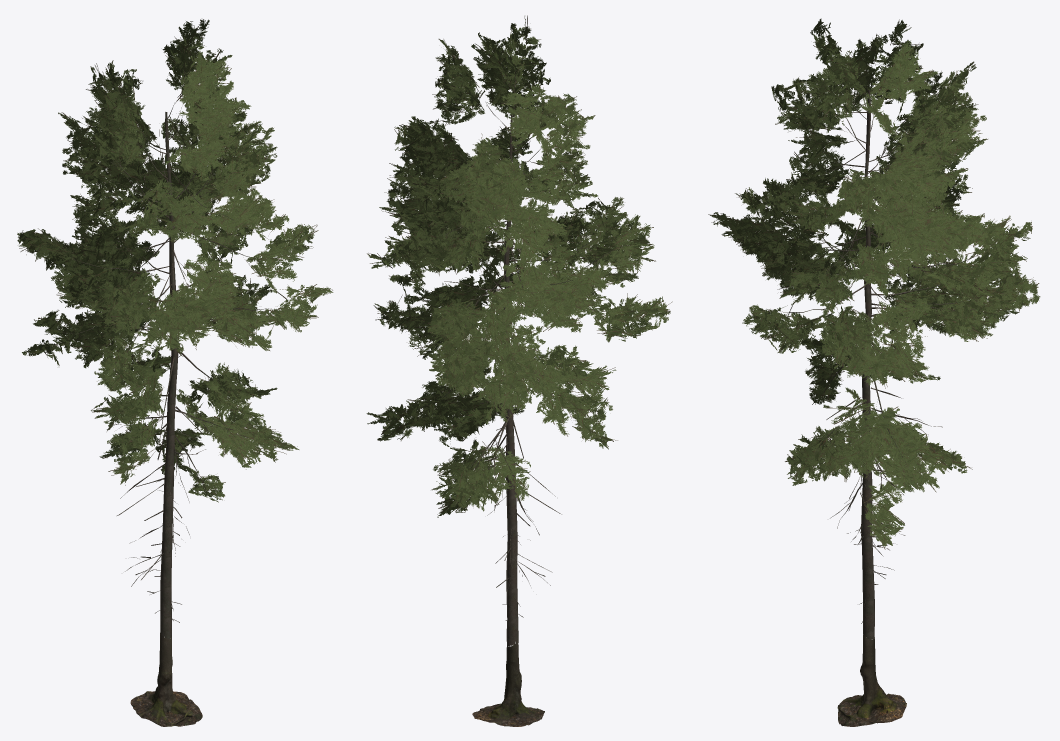
3 renders of one model, left to right at view 1: azimuth 30°, elevation 25°; view 2: azimuth 150°, elevation 25°; view 3: azimuth 270°, elevation 25°, orthographic. The views are drawn at different scales.
Visible parts, largest first — view 1: fir_tree_01__b_lod0; view 2: fir_tree_01__b_lod0; view 3: fir_tree_01__b_lod0.
Part boxes in pixels (x1,y1,x2,y2): fir_tree_01__b_lod0: (17,19,333,726); fir_tree_01__b_lod0: (366,15,672,726); fir_tree_01__b_lod0: (708,18,1040,726).
Bounding box in the file's own units: 5.64 × 14.11 × 6.16.
Materials: 3 (3 with a texture image).
